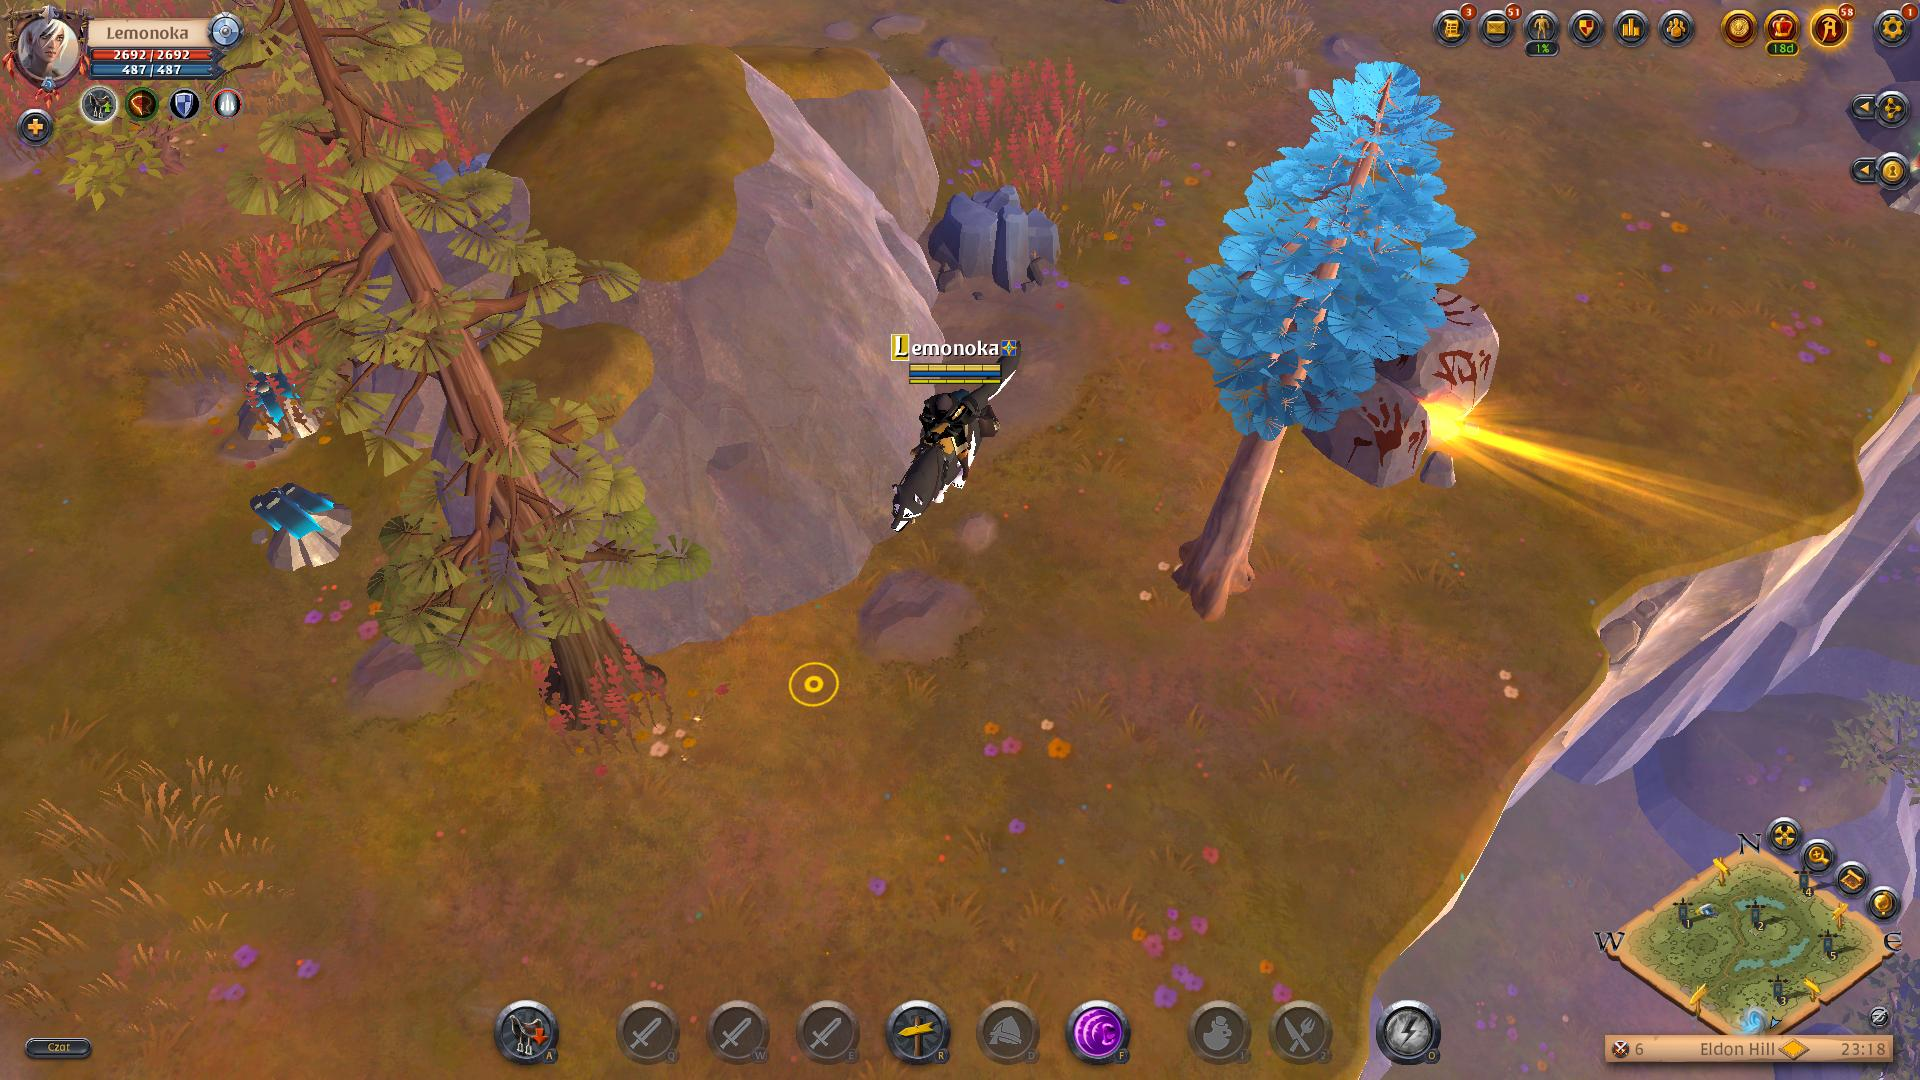ore tier 4: (247, 475, 360, 580)
rock tier 4: (923, 182, 1072, 305)
wood tier 4: (1183, 50, 1473, 462)
